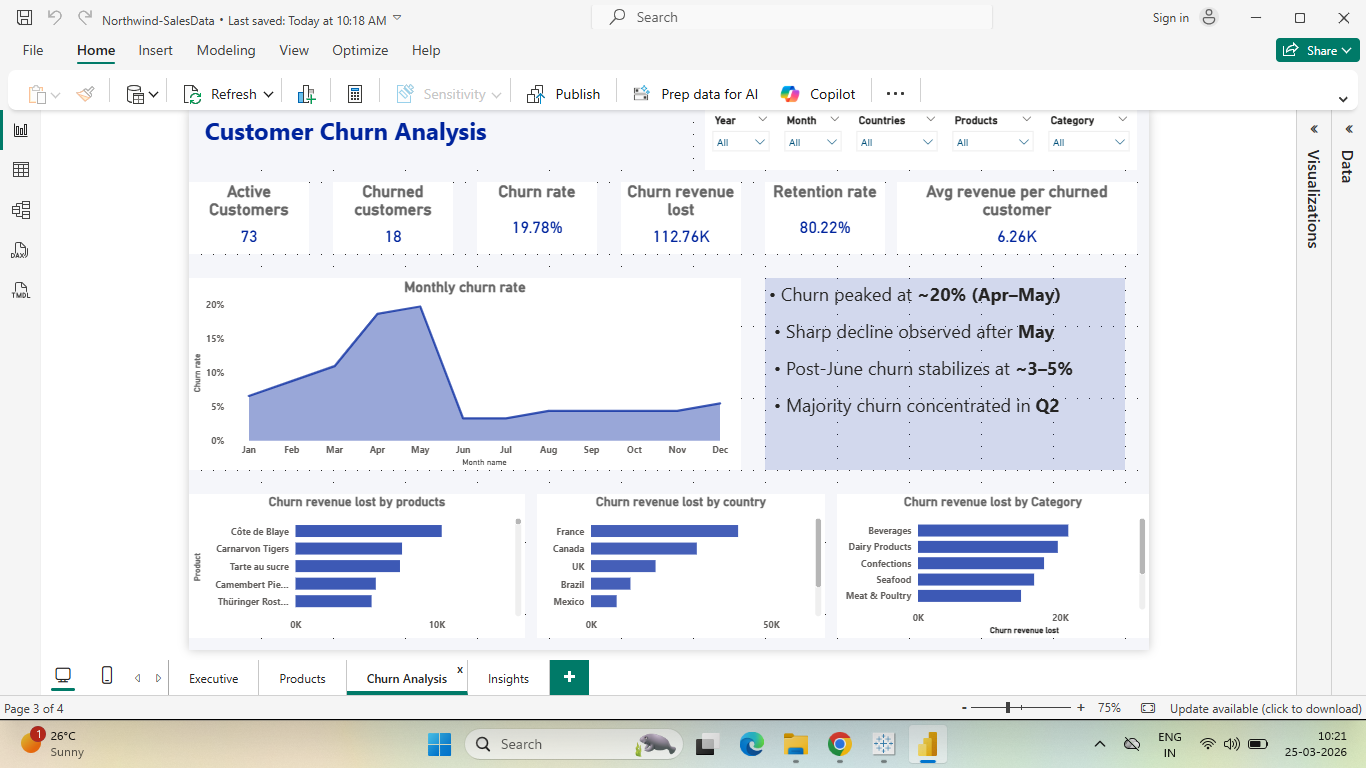

What the dashboard file says about the page in this screenshot:
{"tool":"powerbi","page":{"name":"Churn Analysis","canvas":[1280,720],"ordinal":2},"visuals":[{"type":"group","id":"g1","title":"Group 1","box":[688,0,576,80],"z":0},{"type":"slicer","fields":{"Values":["Date table.year"]},"box":[688,0,96,80],"z":0,"group":"g1"},{"type":"slicer","fields":{"Values":["Date table.Month"]},"box":[784,0,96,80],"z":1000,"group":"g1"},{"type":"card","title":"Active Customers","fields":{"Values":["Churn analysis.Active customers"]},"box":[0,96,160,96],"z":1000},{"type":"slicer","fields":{"Values":["customers.country"]},"box":[880,0,128,80],"z":2000,"group":"g1"},{"type":"card","title":"Churn rate","fields":{"Values":["Churn analysis.Churn rate"]},"box":[384,96,160,96],"z":2000},{"type":"slicer","fields":{"Values":["products.productName"]},"box":[1008,0,128,80],"z":3000,"group":"g1"},{"type":"card","title":"Churn revenue lost","fields":{"Values":["Churn analysis.Churn revenue lost"]},"box":[576,96,160,96],"z":3000},{"type":"slicer","fields":{"Values":["categories.categoryName"]},"box":[1136,0,128,80],"z":4000,"group":"g1"},{"type":"card","title":"Churned customers","fields":{"Values":["Churn analysis.Churned customers"]},"box":[192,96,160,96],"z":4000},{"type":"card","title":"Retention rate","fields":{"Values":["Churn analysis.Retention rate"]},"box":[768,96,160,96],"z":5000},{"type":"card","title":"Avg revenue per churned customer","fields":{"Values":["Churn analysis.Avg revenue per churned customers"]},"box":[944,96,320,96],"z":6000},{"type":"lineChart","title":"Monthly churn rate","fields":{"Y":["Churn analysis.Churn rate"],"Category":["Date table.Month name"]},"box":[0,224,736,256],"z":7000},{"type":"barChart","title":"Churn revenue lost by products","fields":{"Category":["products.productName"],"Y":["Churn analysis.Churn revenue lost"]},"box":[0,512,448,192],"z":8000},{"type":"barChart","fields":{"Y":["Churn analysis.Churn revenue lost"],"Category":["customers.country"]},"box":[464,512,384,192],"z":9000},{"type":"textbox","box":[16,0,656,80],"z":10000},{"type":"barChart","title":"Churn revenue lost by Category","fields":{"Category":["categories.categoryName"],"Y":["Churn analysis.Churn revenue lost"]},"box":[864,512,416,192],"z":11000},{"type":"textbox","box":[768,224,480,256],"z":12000}]}

Visuals, with their boxes on the page's 1280x720 design canvas (x1, y1, x2, y2). These are canvas units, not pixel positions in the 1366x768 screenshot, which may show the page scaled, cropped or inside an application window:
"Group 1" group: {"x1": 688, "y1": 0, "x2": 1264, "y2": 80}
slicer - Date table.year: {"x1": 688, "y1": 0, "x2": 784, "y2": 80}
slicer - Date table.Month: {"x1": 784, "y1": 0, "x2": 880, "y2": 80}
"Active Customers" card: {"x1": 0, "y1": 96, "x2": 160, "y2": 192}
slicer - customers.country: {"x1": 880, "y1": 0, "x2": 1008, "y2": 80}
"Churn rate" card: {"x1": 384, "y1": 96, "x2": 544, "y2": 192}
slicer - products.productName: {"x1": 1008, "y1": 0, "x2": 1136, "y2": 80}
"Churn revenue lost" card: {"x1": 576, "y1": 96, "x2": 736, "y2": 192}
slicer - categories.categoryName: {"x1": 1136, "y1": 0, "x2": 1264, "y2": 80}
"Churned customers" card: {"x1": 192, "y1": 96, "x2": 352, "y2": 192}
"Retention rate" card: {"x1": 768, "y1": 96, "x2": 928, "y2": 192}
"Avg revenue per churned customer" card: {"x1": 944, "y1": 96, "x2": 1264, "y2": 192}
"Monthly churn rate" lineChart: {"x1": 0, "y1": 224, "x2": 736, "y2": 480}
"Churn revenue lost by products" barChart: {"x1": 0, "y1": 512, "x2": 448, "y2": 704}
barChart - Churn analysis.Churn revenue lost x customers.country: {"x1": 464, "y1": 512, "x2": 848, "y2": 704}
textbox: {"x1": 16, "y1": 0, "x2": 672, "y2": 80}
"Churn revenue lost by Category" barChart: {"x1": 864, "y1": 512, "x2": 1280, "y2": 704}
textbox: {"x1": 768, "y1": 224, "x2": 1248, "y2": 480}
